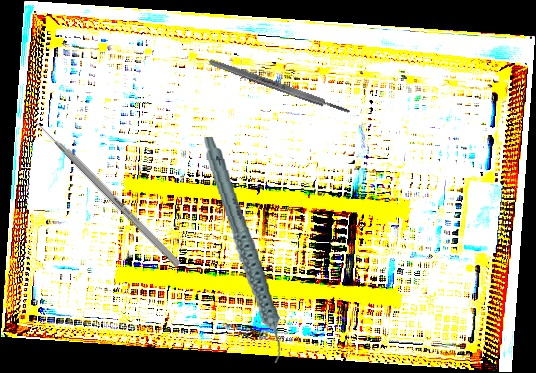Handpiece: (200, 132, 285, 368)
Pusher: (22, 108, 183, 268)
Scalpel Handle: (207, 56, 352, 117)
